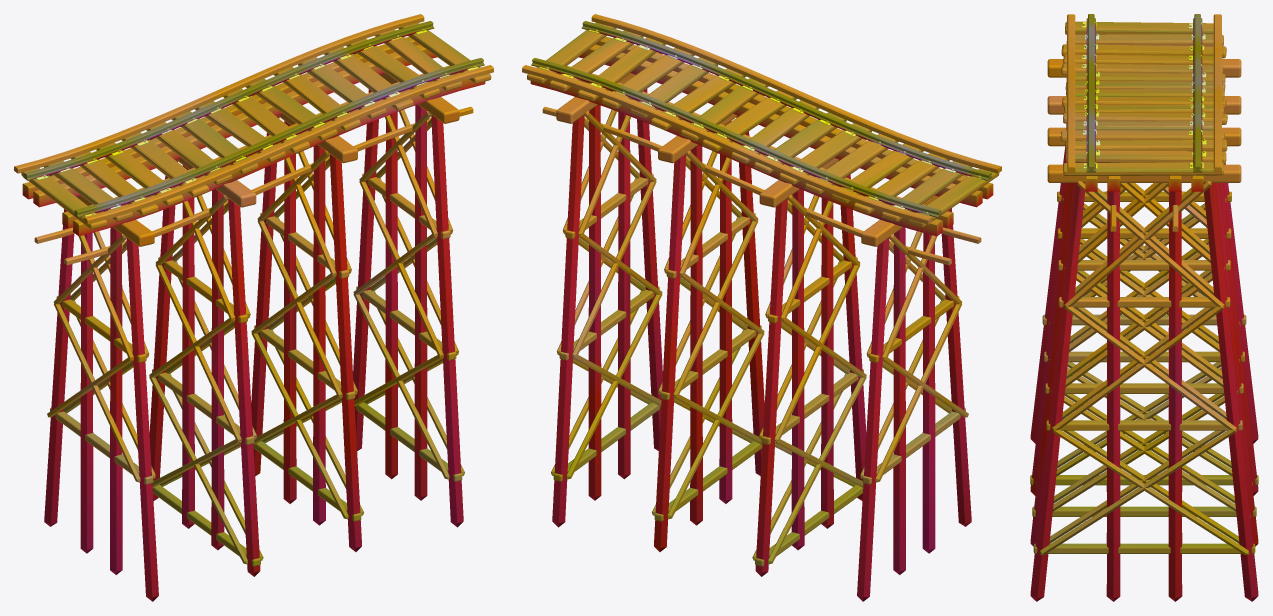
Rendered from Track_Ramp_Up_12m.fbx.
3 renders of one model, left to right at view 1: azimuth 30°, elevation 25°; view 2: azimuth 150°, elevation 25°; view 3: azimuth 270°, elevation 25°, orthographic. The views are drawn at different scales.
Visible parts, largest first — view 1: Track_Ramp_Up_12m; view 2: Track_Ramp_Up_12m; view 3: Track_Ramp_Up_12m.
Boxes of the visible parts, bbox=[...] form: Track_Ramp_Up_12m: bbox=[14, 14, 493, 601]; Track_Ramp_Up_12m: bbox=[522, 14, 1001, 601]; Track_Ramp_Up_12m: bbox=[1030, 14, 1258, 601].
Size of the model in its own units: 12 by 12.35 by 5.54.
